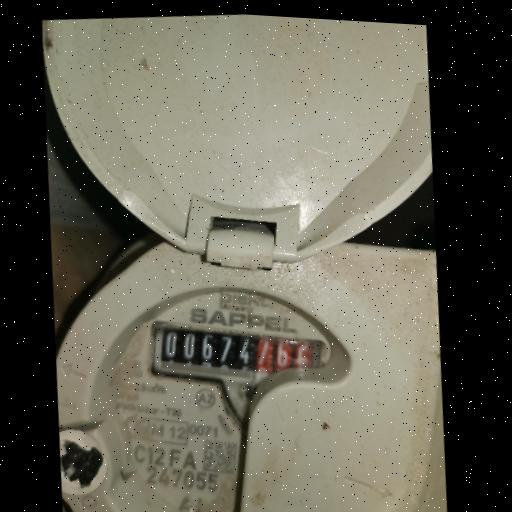0: (158, 326, 185, 365), (176, 328, 202, 368)
2: (292, 338, 316, 372)
4: (230, 334, 258, 373)
6: (194, 329, 222, 369), (271, 335, 295, 374)
7: (212, 331, 240, 371), (253, 331, 277, 374)
border_water_meter_number: (138, 305, 332, 415)
